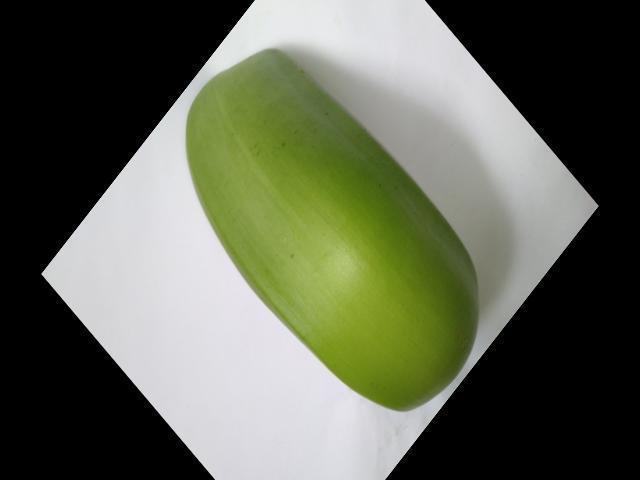freshunripe: (178, 35, 504, 430)
